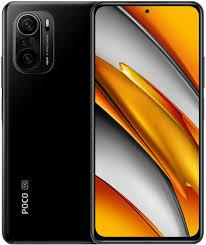Smartphone: (95, 5, 202, 239), (4, 5, 93, 237)
